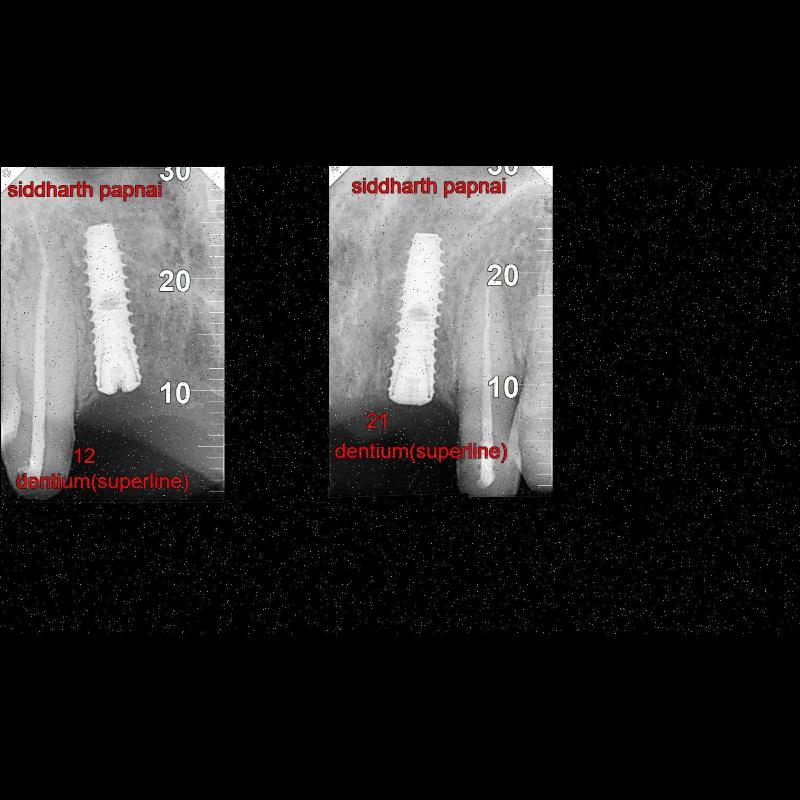Dentium: (258, 484, 472, 634), (77, 512, 293, 634)
